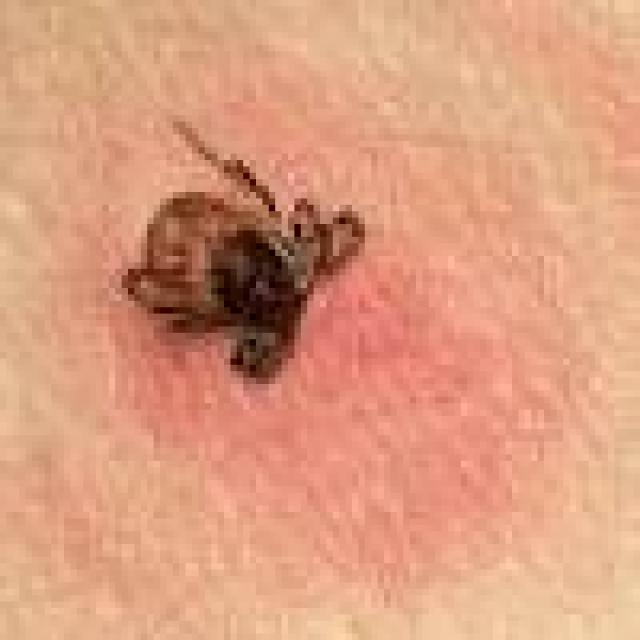kene: (129, 154, 430, 417)
